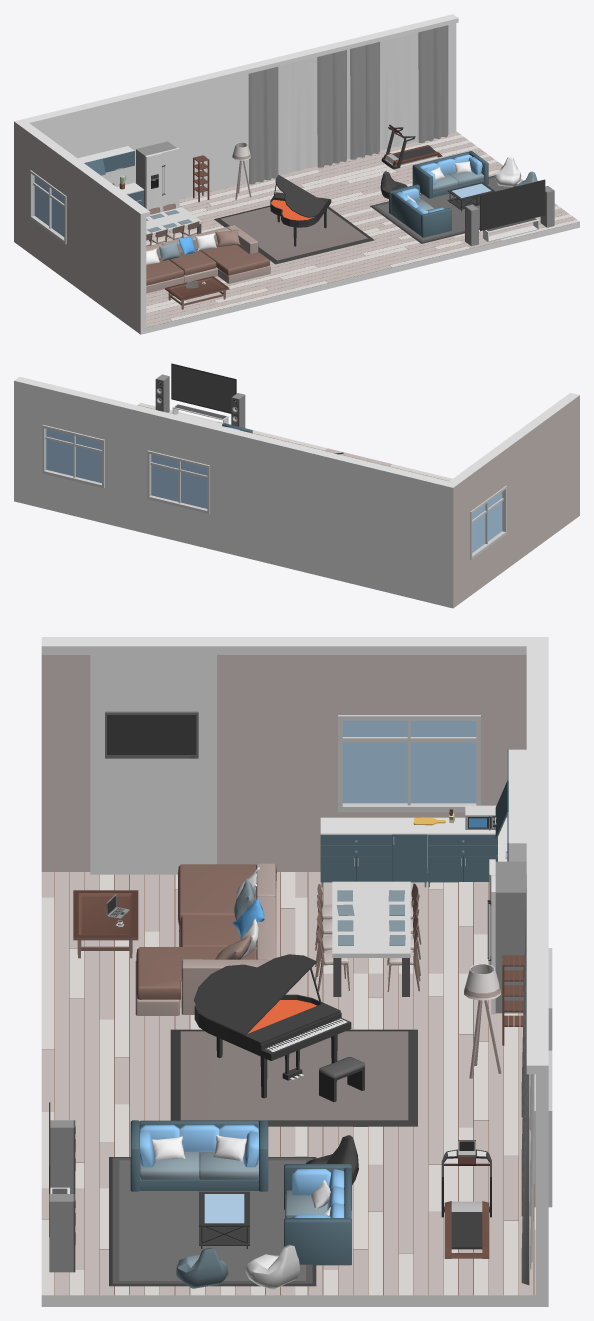
The model's file is room_24.glb.
The picture shows the model from 3 angles, top to bottom: view 1: azimuth 30°, elevation 25°; view 2: azimuth 150°, elevation 25°; view 3: azimuth 270°, elevation 25°; orthographic projection. The views are drawn at different scales.
Parts seen in each view (by area): view 1: Walls_006.003, Walls_166.001, Curtains_027.008, carpet_001.001, sofa_028.001, Curtains_027.009, floor_017.004, floor_017.003, tv_wall_005.001, Walls_009.001, Curtains_023.004, Curtains_023.001 (+28 smaller); view 2: Walls_006.003, Walls_166.001, Walls_006.005, Walls_006.004, tv_wall_005.001, Walls_006.001, window_019.002, window_019.001, Walls_166.003, Walls_006.006, window_019.003, Walls_166.004 (+5 smaller); view 3: Walls_166.001, Walls_003.001, carpet_001.001, floor_017.001, floor_017.003, window_019.003, kitchen_item_032.001, floor_017.005, carpet_004.001, floor_017.006, Walls_009.001, sofa_028.001 (+29 smaller).
Part boxes in pixels (x1,y1,x2,y2): Walls_006.003: (20, 62, 260, 198); Walls_166.001: (66, 158, 146, 334); Curtains_027.008: (347, 32, 418, 158); carpet_001.001: (214, 205, 374, 264); sofa_028.001: (146, 225, 270, 293); Curtains_027.009: (278, 57, 317, 175); floor_017.004: (328, 210, 469, 275); floor_017.003: (239, 159, 388, 217); tv_wall_005.001: (465, 179, 554, 246); Walls_009.001: (146, 133, 579, 333); Curtains_023.004: (418, 25, 448, 142); Curtains_023.001: (248, 66, 278, 184); Walls_006.003: (209, 426, 450, 606); Walls_166.001: (500, 394, 579, 569); Walls_006.005: (44, 386, 211, 464); Walls_006.004: (44, 474, 208, 548); tv_wall_005.001: (155, 363, 245, 427); Walls_006.001: (14, 378, 46, 508); window_019.002: (42, 425, 104, 488); window_019.001: (147, 450, 209, 513); Walls_166.003: (447, 474, 470, 608); Walls_006.006: (105, 440, 147, 496); window_019.003: (470, 486, 506, 559); Walls_166.004: (465, 448, 505, 510); Walls_166.001: (41, 637, 339, 872); Walls_003.001: (90, 655, 216, 874); carpet_001.001: (170, 1029, 417, 1126); floor_017.001: (295, 1188, 535, 1295); floor_017.003: (295, 1081, 533, 1188); window_019.003: (338, 715, 480, 812); kitchen_item_032.001: (320, 749, 526, 887); floor_017.005: (295, 973, 530, 1080); carpet_004.001: (109, 1157, 316, 1286); floor_017.006: (41, 973, 295, 1080); Walls_009.001: (41, 872, 535, 1306); sofa_028.001: (135, 863, 276, 1015).
Size of the model in its own units: 16.04 by 4.2 by 8.06.
1 material, 1 textured.
